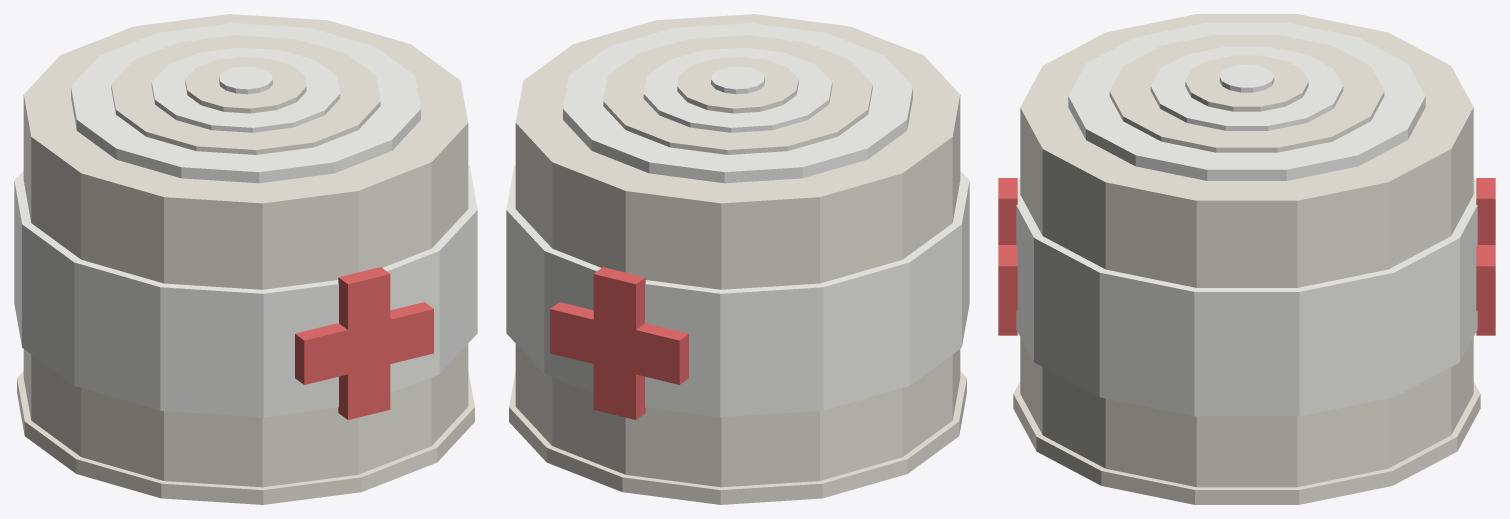
Rendered from bandage.glb.
The picture shows the model from 3 angles, left to right: view 1: azimuth 30°, elevation 25°; view 2: azimuth 150°, elevation 25°; view 3: azimuth 270°, elevation 25°; orthographic projection.
Visible parts, largest first — view 1: Bandage; view 2: Bandage; view 3: Bandage.
Part boxes in pixels (x1,y1,x2,y2): Bandage: (14,14,477,504); Bandage: (506,14,969,504); Bandage: (998,14,1495,504).
Bounding box in the file's own units: 0.3354 × 0.267 × 0.362.
